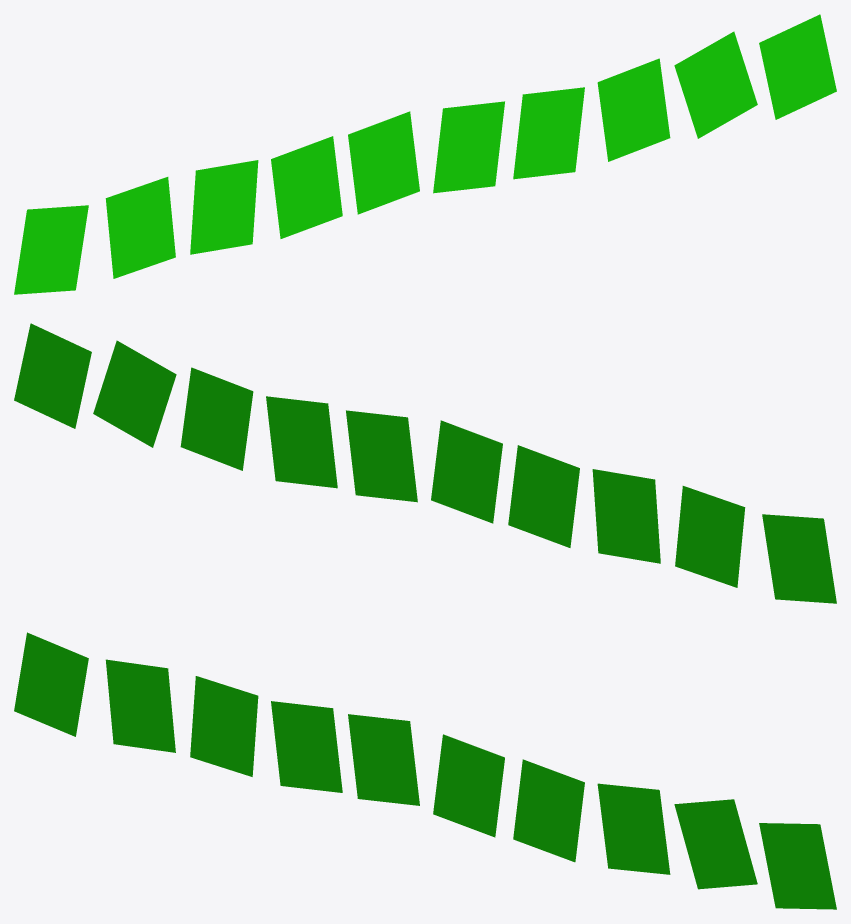
The picture shows the model from 3 angles, top to bottom: view 1: azimuth 30°, elevation 25°; view 2: azimuth 150°, elevation 25°; view 3: azimuth 330°, elevation 25°; orthographic projection.
Parts seen in each view (by area): view 1: Plane.001; view 2: Plane.001; view 3: Plane.001.
Part boxes in pixels (<box>): Plane.001: <box>14,14,836,294</box>; Plane.001: <box>14,323,836,603</box>; Plane.001: <box>14,632,836,909</box>.
Size of the model in its own units: 4.77 by 0.5653 by 0.00684.
